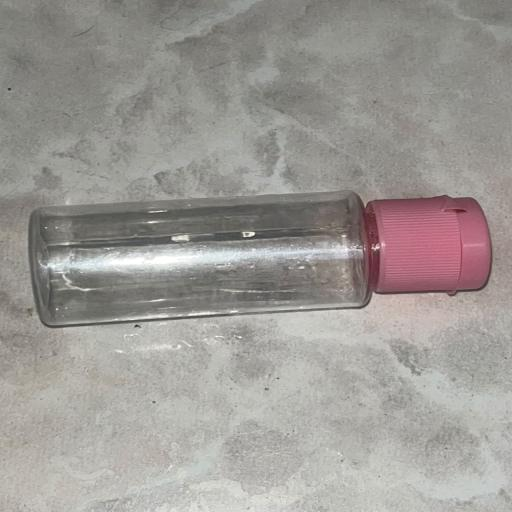PET: (22, 148, 512, 444)
